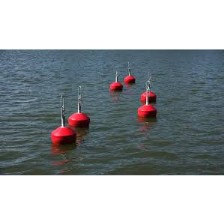buoy: (51, 126, 77, 145), (69, 113, 90, 127), (138, 105, 157, 118), (141, 91, 157, 102), (124, 75, 136, 84), (110, 83, 123, 91)
